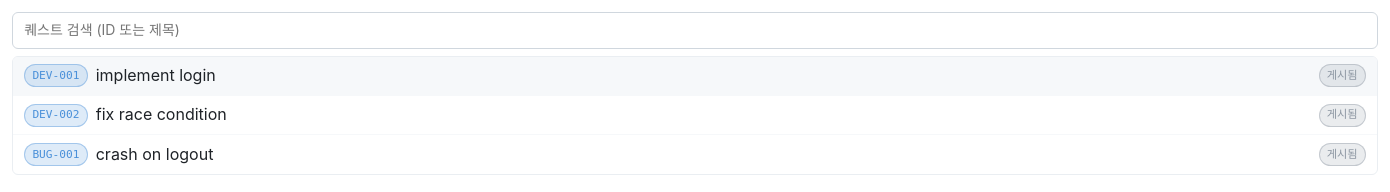
Test: QuestCombobox › shows empty state when no match
The width and height of the screenshot is (1390, 192).
In the field with test id "quest-combobox-input": (695,31) [12,12,1378,49], type "zzz"
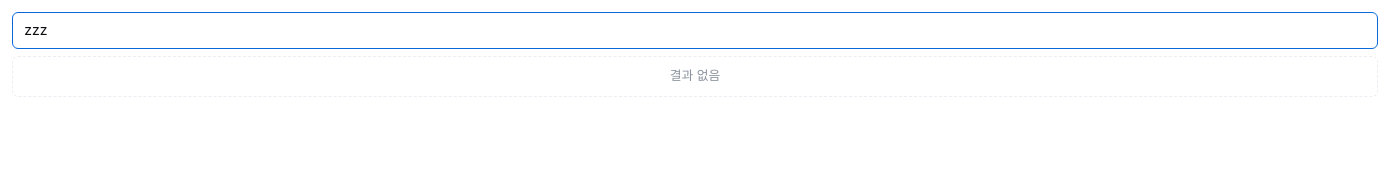
Expected: the text "결과 없음" is shown, [12,56,1378,97]
Expected: no buttons with test id "quest-combobox-option" are shown
